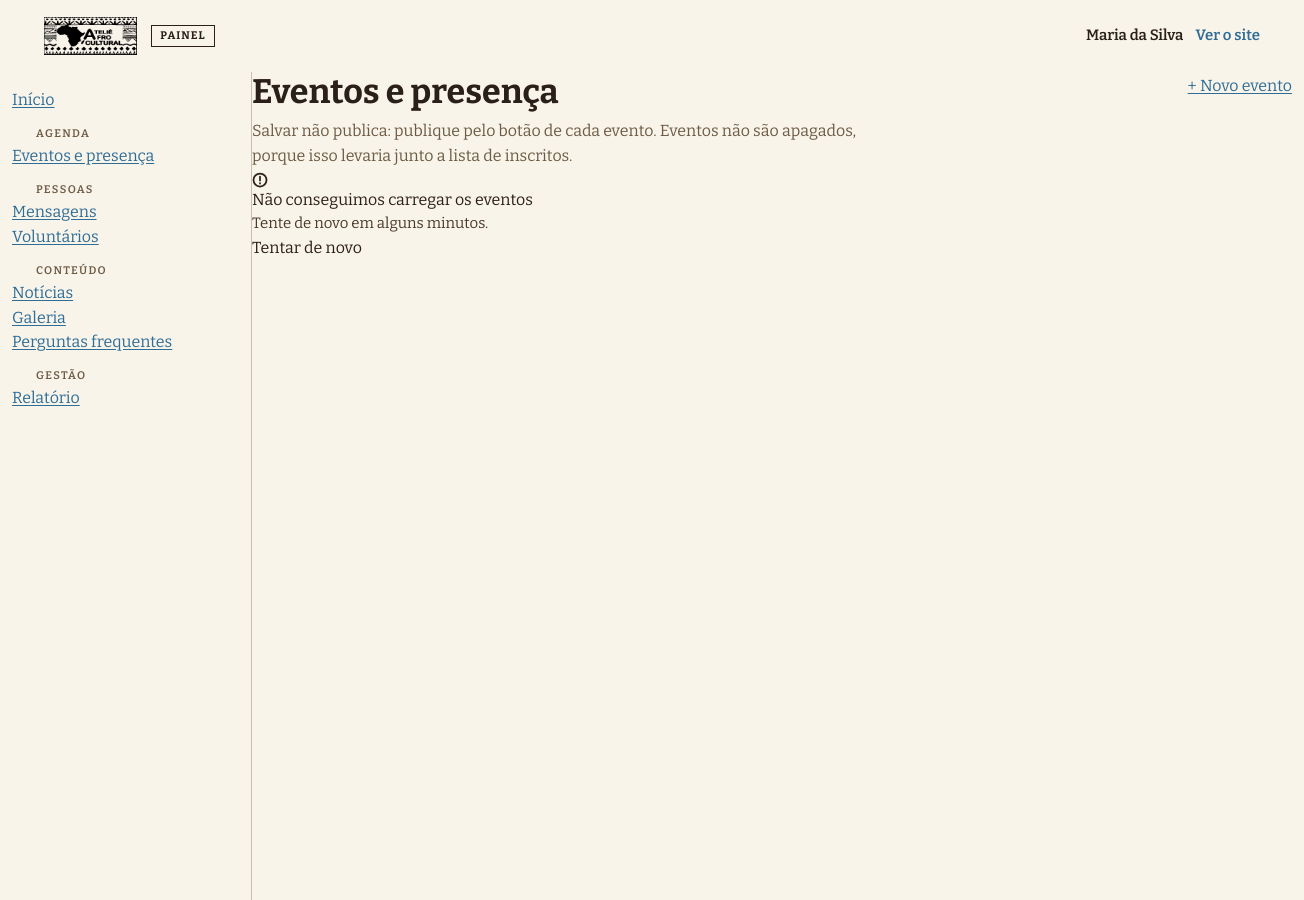
Scenario: the list of events › says when the list could not be loaded, and tries again
This screenshot has width=1304, height=900.
Click the button "Tentar de novo": (307, 248) [252,236,362,260]
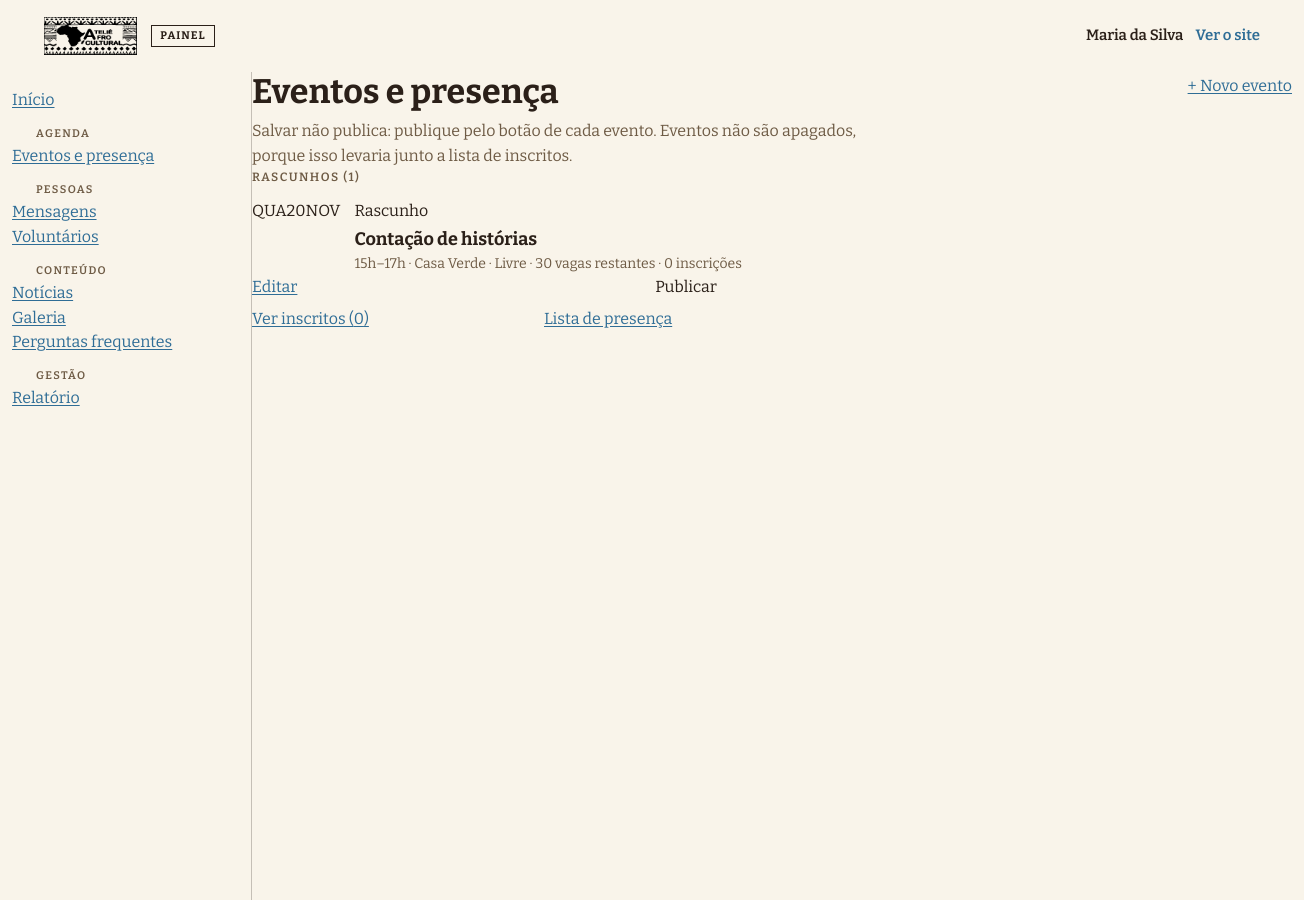
expect the heading "Contação de histórias" is shown: met, box [354,228,537,250]
